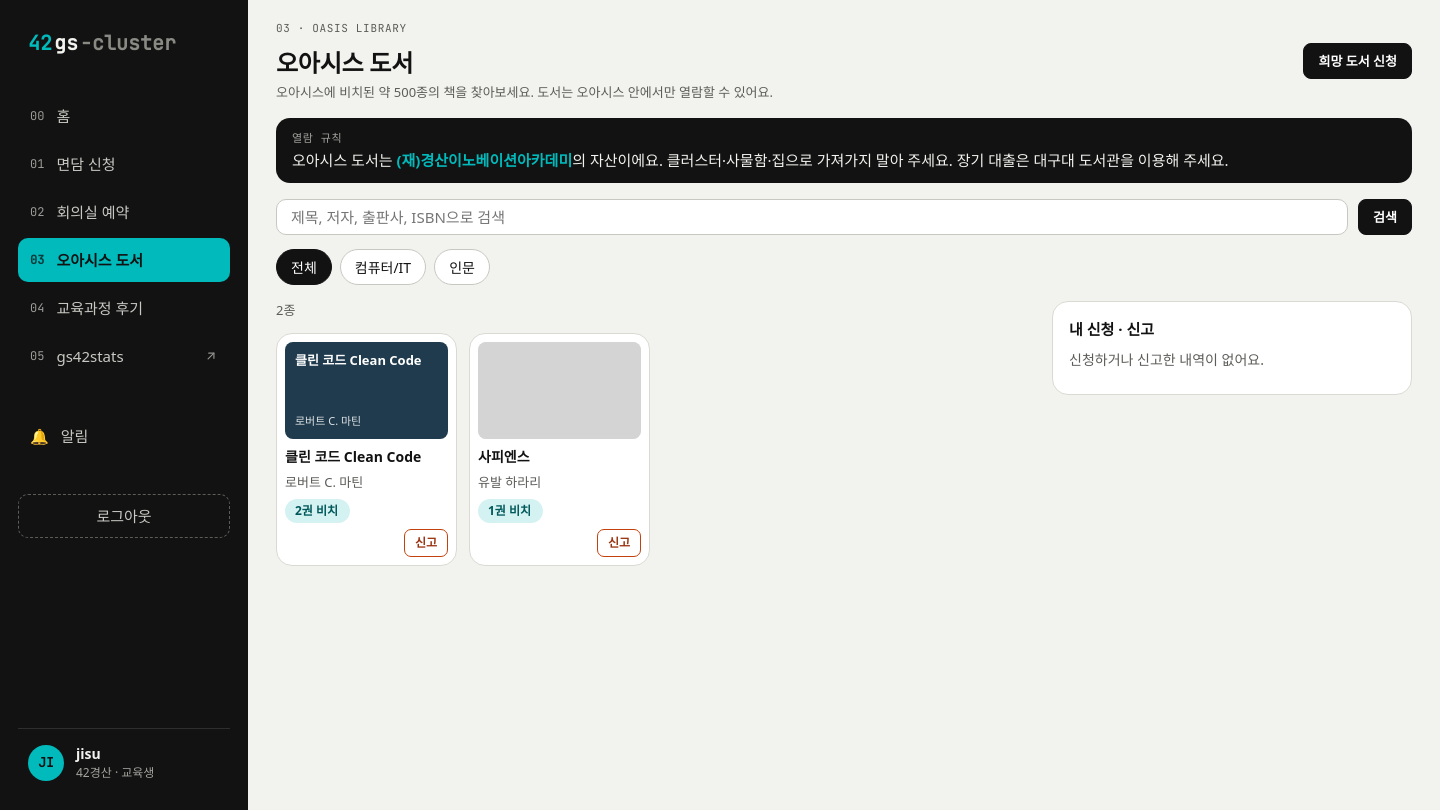
Test: 오아시스 도서 화면 › 분실 신고: 도서 id·유형을 보내고 접수 안내를 보여준다
The width and height of the screenshot is (1440, 810).
Expected: the heading "오아시스 도서" is shown, [276,46,413,78]
Click the button with aria-label "클린 코드 Clean Code 신고".
click(426, 543)  # box [404,529,448,557]
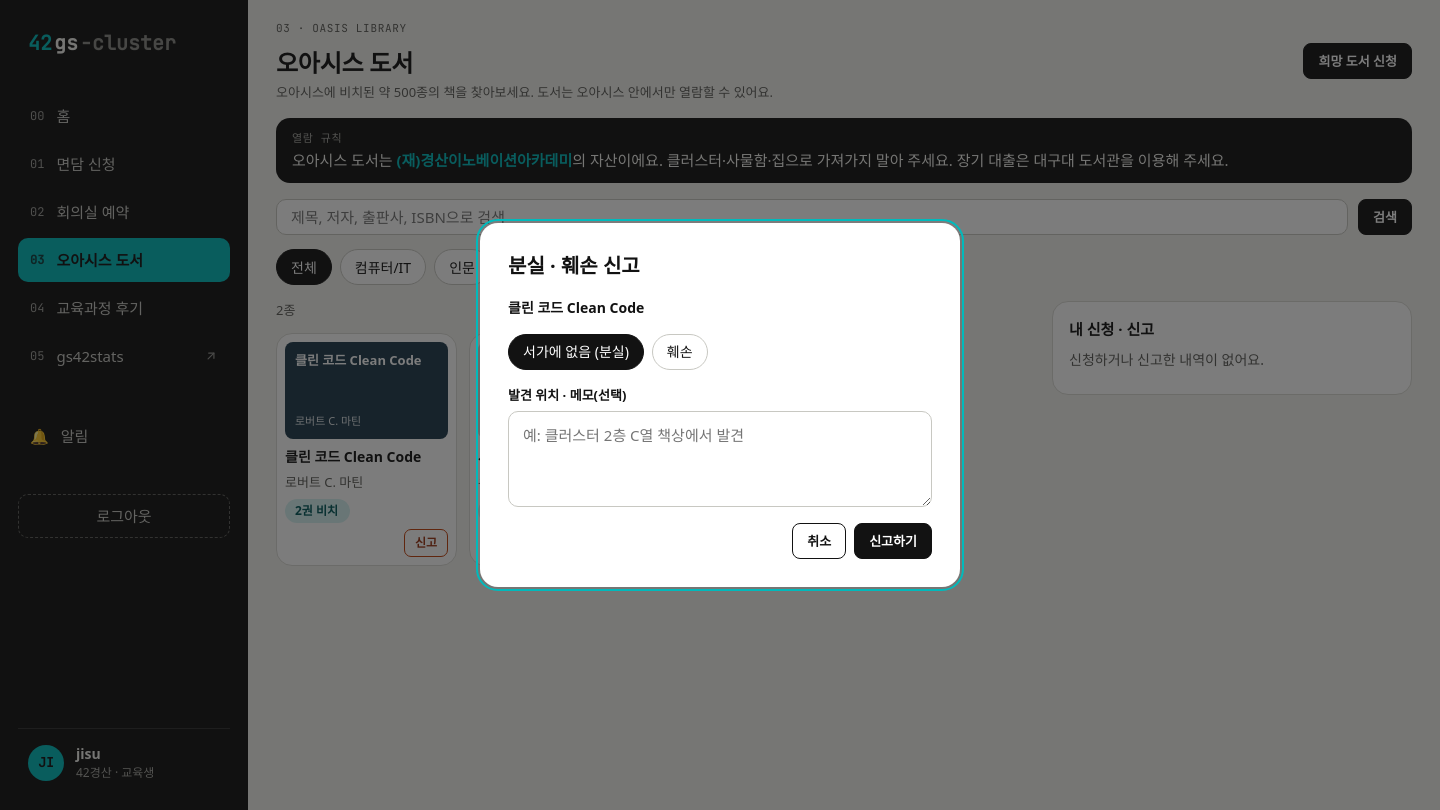
Click the button "신고하기".
click(893, 541)  # box [854,523,932,559]
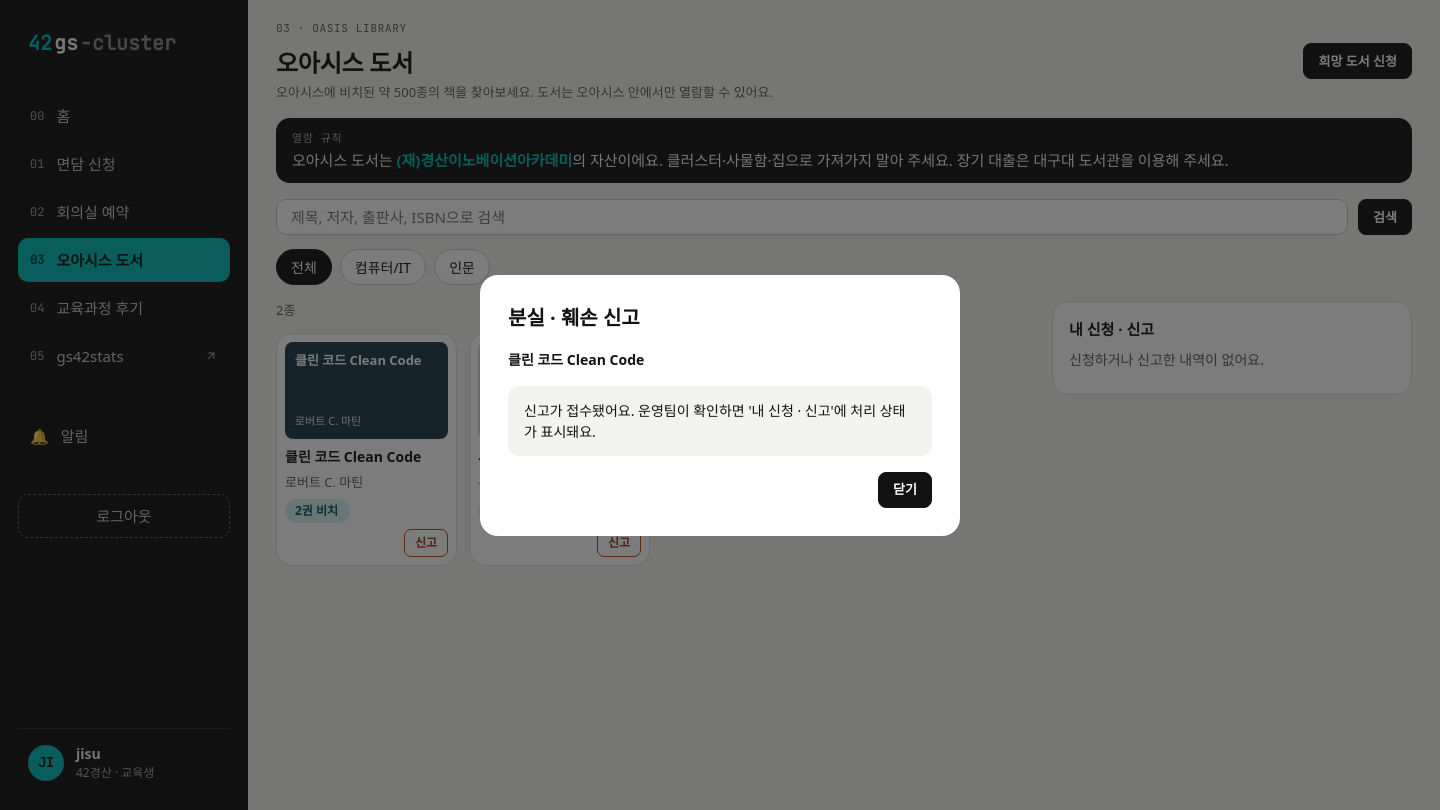
Expected: the text "신고가 접수됐어요. 운영팀이 확인하면 '내 신청 · 신고'에 처리 상태가 표시돼요." is shown, [508,386,932,456]
